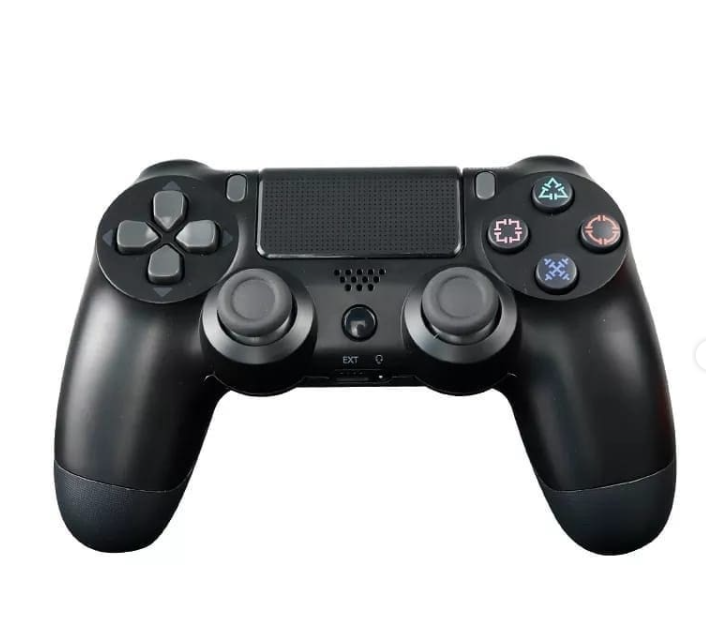gamingconsole: (56, 157, 677, 555)
